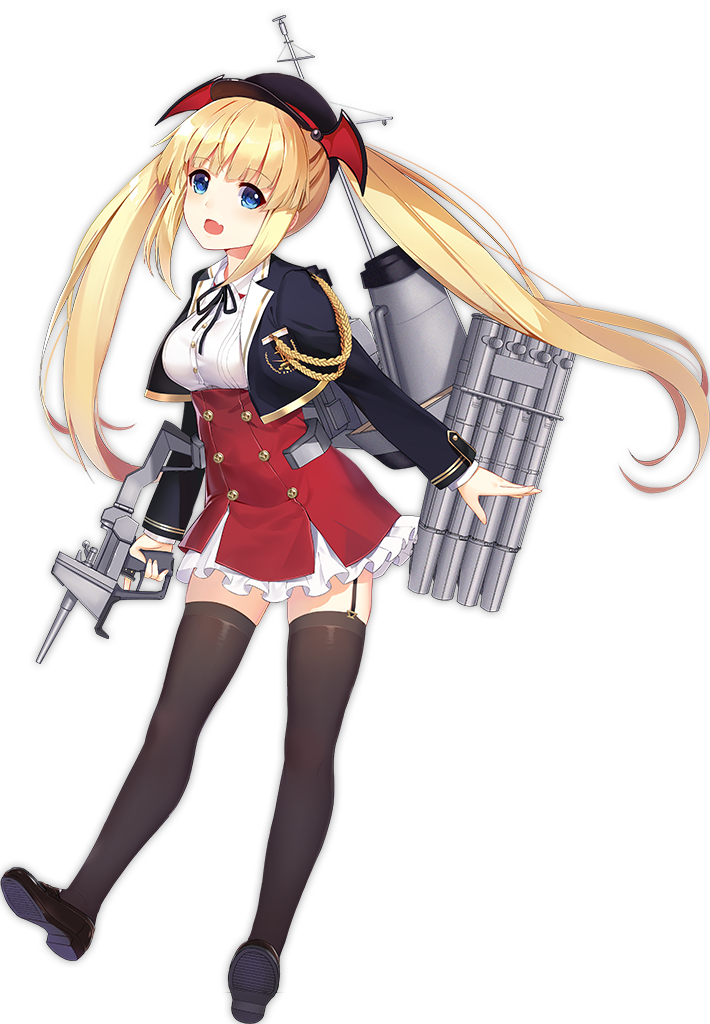person: (20, 63, 454, 815)
